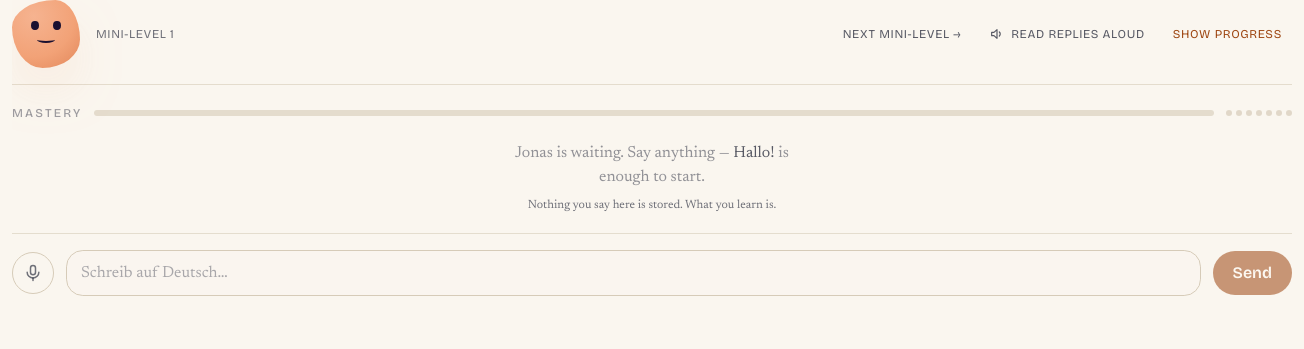
Test: the companion says what is happening › listens while the message is in flight, then speaks as the reply lands
This screenshot has width=1304, height=349.
Type "Hallo! Ich heiße Alex." into the field named "your message in german".
click(633, 273); type("Hallo! Ich heiße Alex.")  # box [66,250,1201,296]
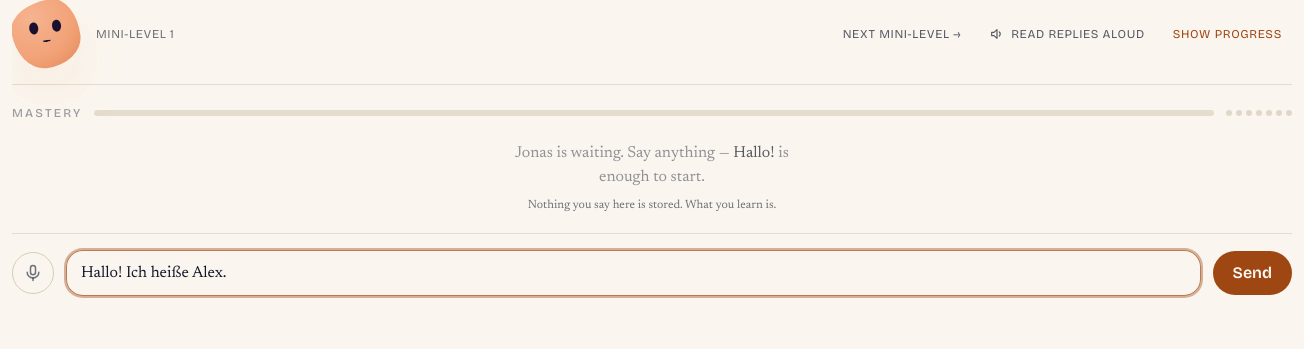
Click the button "Send".
click(1252, 273)  # box [1213,251,1292,295]
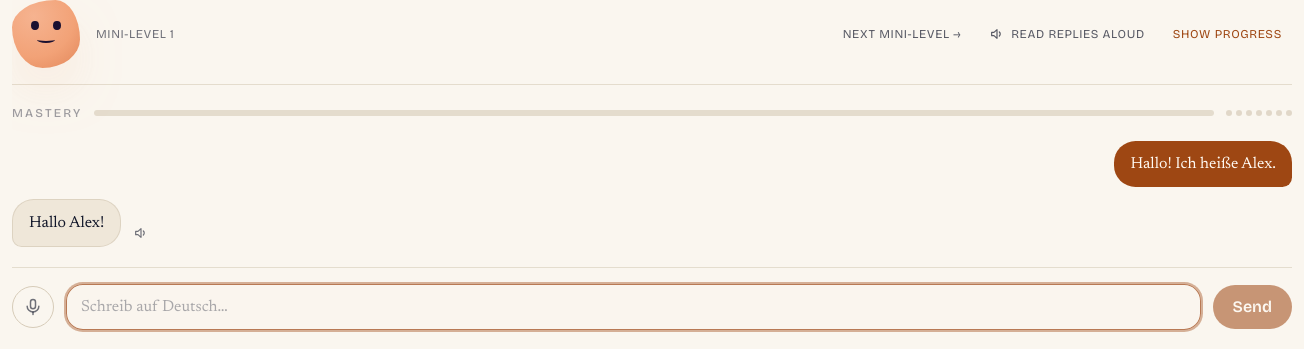
Result: the list item "Hallo! Ich heiße Alex." is shown at [1114,141,1292,187]
Result: the text "Hallo Alex!" is shown at [12,199,121,247]
